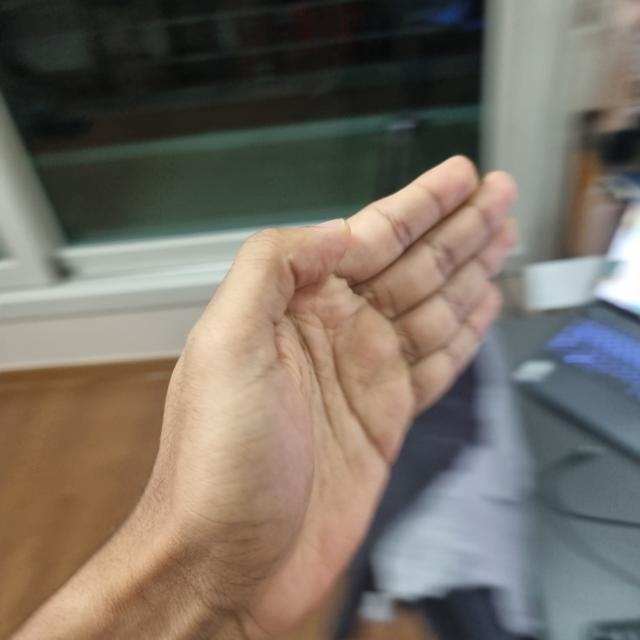Paper: (152, 159, 515, 619)
